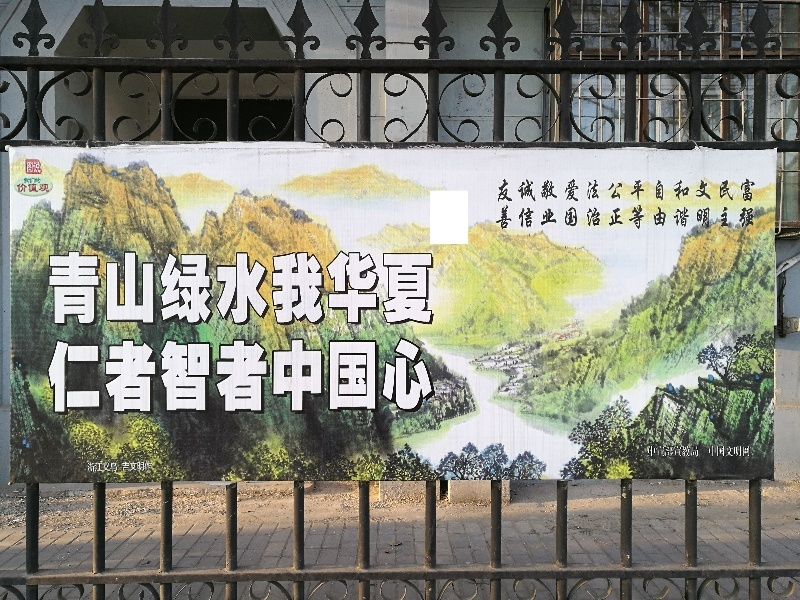text: (49, 249, 64, 328), (65, 249, 80, 328), (81, 249, 96, 328), (97, 249, 112, 328), (113, 249, 128, 328), (129, 249, 144, 328), (145, 249, 160, 328), (161, 249, 176, 328), (177, 249, 192, 328), (193, 249, 208, 328), (209, 249, 224, 328), (225, 249, 240, 328), (241, 249, 256, 328), (257, 249, 272, 328), (273, 249, 288, 328), (289, 249, 304, 328), (305, 249, 320, 328), (321, 249, 336, 328), (337, 249, 352, 328), (353, 249, 368, 328), (369, 249, 384, 328), (385, 249, 400, 328), (401, 249, 416, 328), (417, 249, 432, 328), (49, 337, 64, 414), (65, 337, 80, 414), (81, 337, 96, 414), (97, 337, 112, 414), (113, 337, 128, 414), (129, 337, 144, 414), (145, 337, 160, 414), (161, 337, 176, 414), (177, 337, 192, 414), (193, 337, 208, 414), (209, 337, 224, 414), (225, 337, 240, 414), (241, 337, 256, 414), (257, 337, 272, 414), (273, 337, 288, 414), (289, 337, 304, 414), (305, 337, 320, 414), (321, 337, 336, 414), (337, 337, 352, 414), (353, 337, 368, 414), (369, 337, 384, 414), (385, 337, 400, 414), (401, 337, 416, 414), (417, 337, 432, 414), (497, 178, 513, 230), (673, 181, 688, 229), (433, 337, 442, 414), (609, 182, 624, 227), (721, 180, 734, 229), (740, 178, 752, 228), (545, 180, 558, 226), (629, 181, 640, 230), (565, 180, 576, 228), (657, 179, 667, 228), (518, 180, 528, 228), (433, 249, 438, 328), (593, 179, 601, 228), (696, 181, 704, 230), (529, 180, 537, 228), (705, 181, 712, 230), (588, 179, 592, 228), (641, 181, 645, 230), (657, 445, 672, 458), (673, 445, 688, 458), (721, 446, 736, 458), (737, 446, 751, 458), (97, 462, 112, 473), (46, 249, 48, 328), (46, 337, 48, 414), (129, 462, 144, 472), (577, 180, 580, 228), (541, 180, 544, 226), (17, 184, 32, 193), (33, 184, 48, 193), (709, 446, 720, 458), (689, 445, 699, 458), (648, 445, 656, 458), (753, 178, 755, 228), (33, 162, 42, 173), (654, 179, 656, 228), (88, 462, 96, 473), (145, 462, 153, 472), (122, 462, 128, 472), (27, 162, 32, 173), (113, 462, 118, 473), (719, 180, 720, 229), (24, 178, 32, 184), (33, 178, 41, 184), (689, 181, 690, 229), (49, 184, 50, 193)
